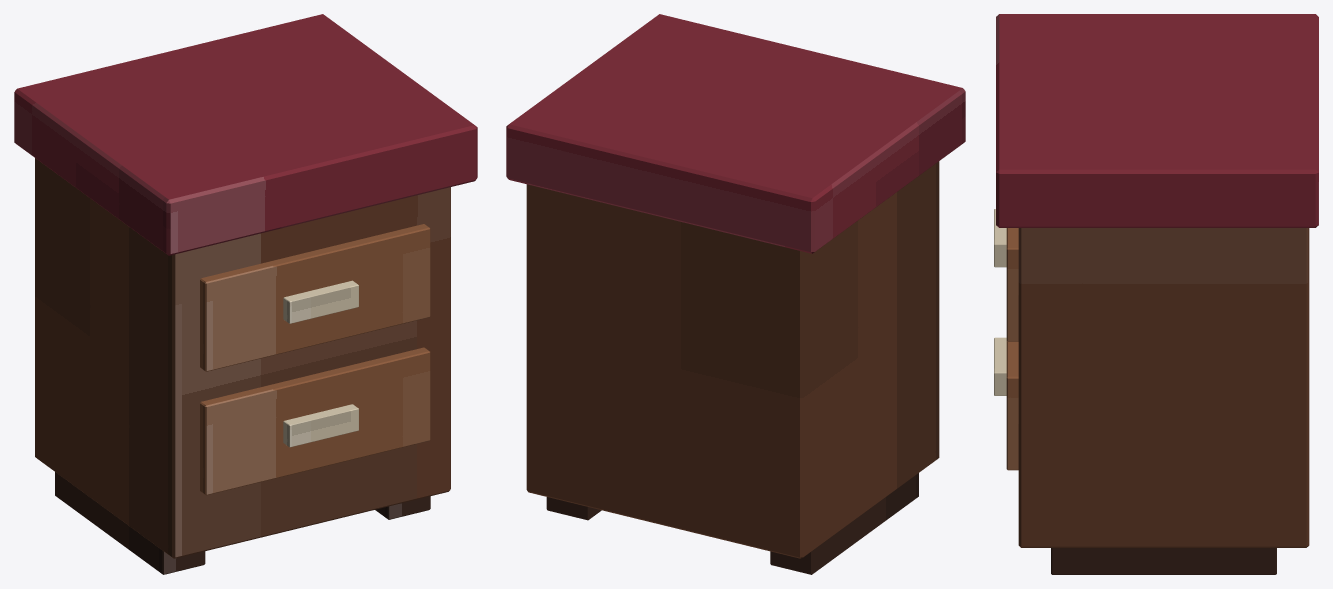
File: bedroom_nightstand.glb
The picture shows the model from 3 angles, left to right: view 1: azimuth 30°, elevation 25°; view 2: azimuth 150°, elevation 25°; view 3: azimuth 270°, elevation 25°; orthographic projection. The views are drawn at different scales.
Visible parts, largest first — view 1: NightstandBody, NightstandTop, NightstandDrawer_2, NightstandDrawer_1, NightstandFoot_L, NightstandHandle_2, NightstandHandle_1, NightstandFoot_R; view 2: NightstandBody, NightstandTop, NightstandFoot_L, NightstandFoot_R; view 3: NightstandBody, NightstandTop, NightstandFoot_R, NightstandDrawer_2, NightstandDrawer_1, NightstandHandle_2, NightstandHandle_1.
Part boxes in pixels (box(x1,y1,x2,y2)): NightstandBody: box(35, 158, 450, 558); NightstandTop: box(14, 14, 477, 255); NightstandDrawer_2: box(200, 347, 430, 495); NightstandDrawer_1: box(200, 224, 430, 371); NightstandFoot_L: box(55, 472, 205, 574); NightstandHandle_2: box(283, 404, 358, 447); NightstandHandle_1: box(283, 280, 358, 323); NightstandFoot_R: box(375, 496, 430, 519); NightstandBody: box(526, 161, 939, 558); NightstandTop: box(506, 14, 965, 253); NightstandFoot_L: box(770, 473, 918, 574); NightstandFoot_R: box(546, 497, 601, 520); NightstandBody: box(1018, 228, 1309, 547); NightstandTop: box(996, 14, 1318, 227); NightstandFoot_R: box(1051, 548, 1276, 574); NightstandDrawer_2: box(1006, 341, 1018, 470); NightstandDrawer_1: box(1006, 228, 1018, 341); NightstandHandle_2: box(994, 337, 1006, 395); NightstandHandle_1: box(994, 209, 1006, 267).
Size of the model in its own units: 0.58 by 0.71 by 0.503.
Materials: 1 (1 with a texture image).
